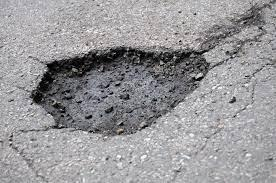alligator-crack: (195, 0, 276, 172)
pothole: (28, 42, 211, 142)
